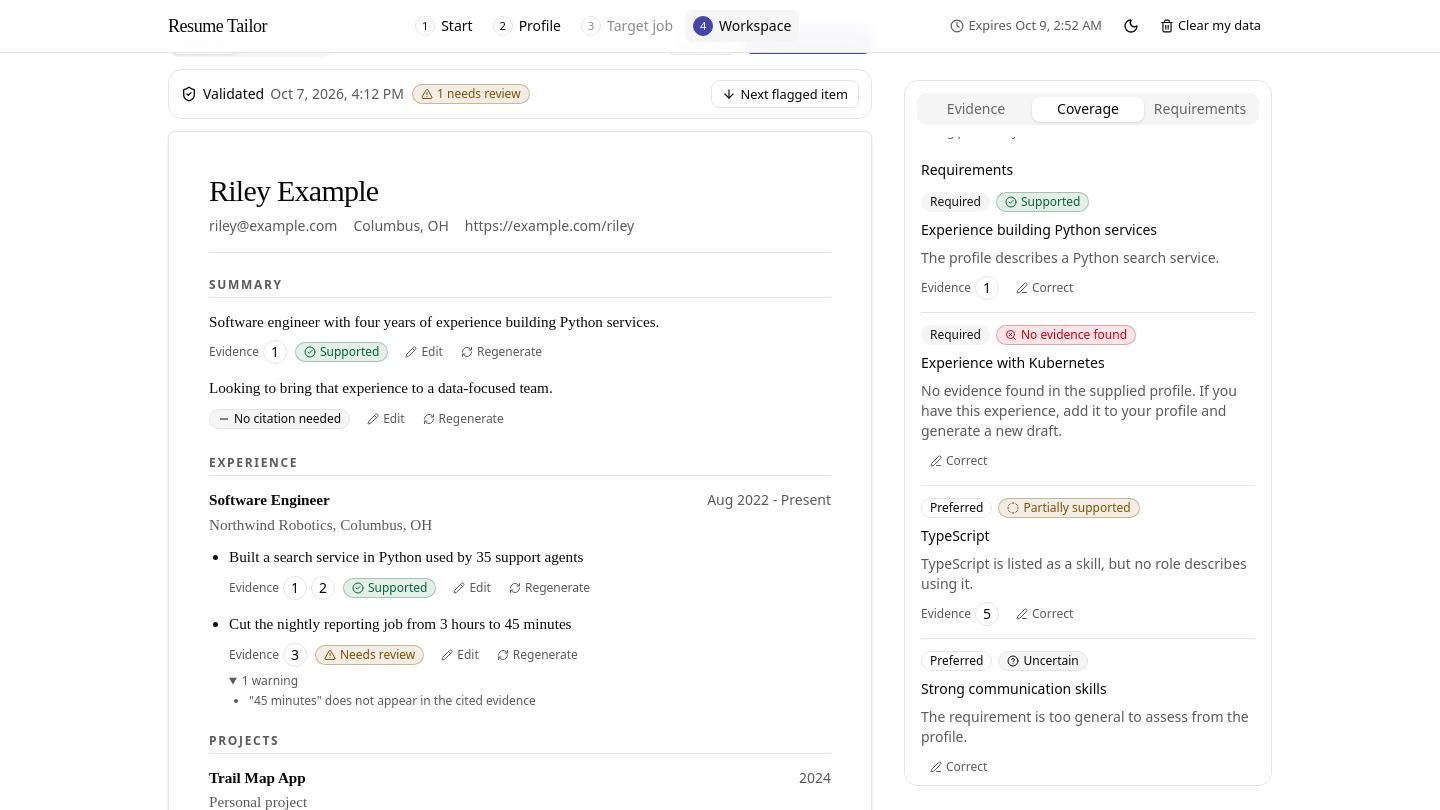
Scenario: Workspace coverage panel (two panes) › saves a correction with the expected revision and marks the requirement as corrected
(page scrolled)
Expected: the tab "Resume" is shown, x1=171 y1=28 x2=238 y2=54
Click the button with aria-label "Correct this status" at (959, 460), box x1=921 y1=448 x2=996 y2=472
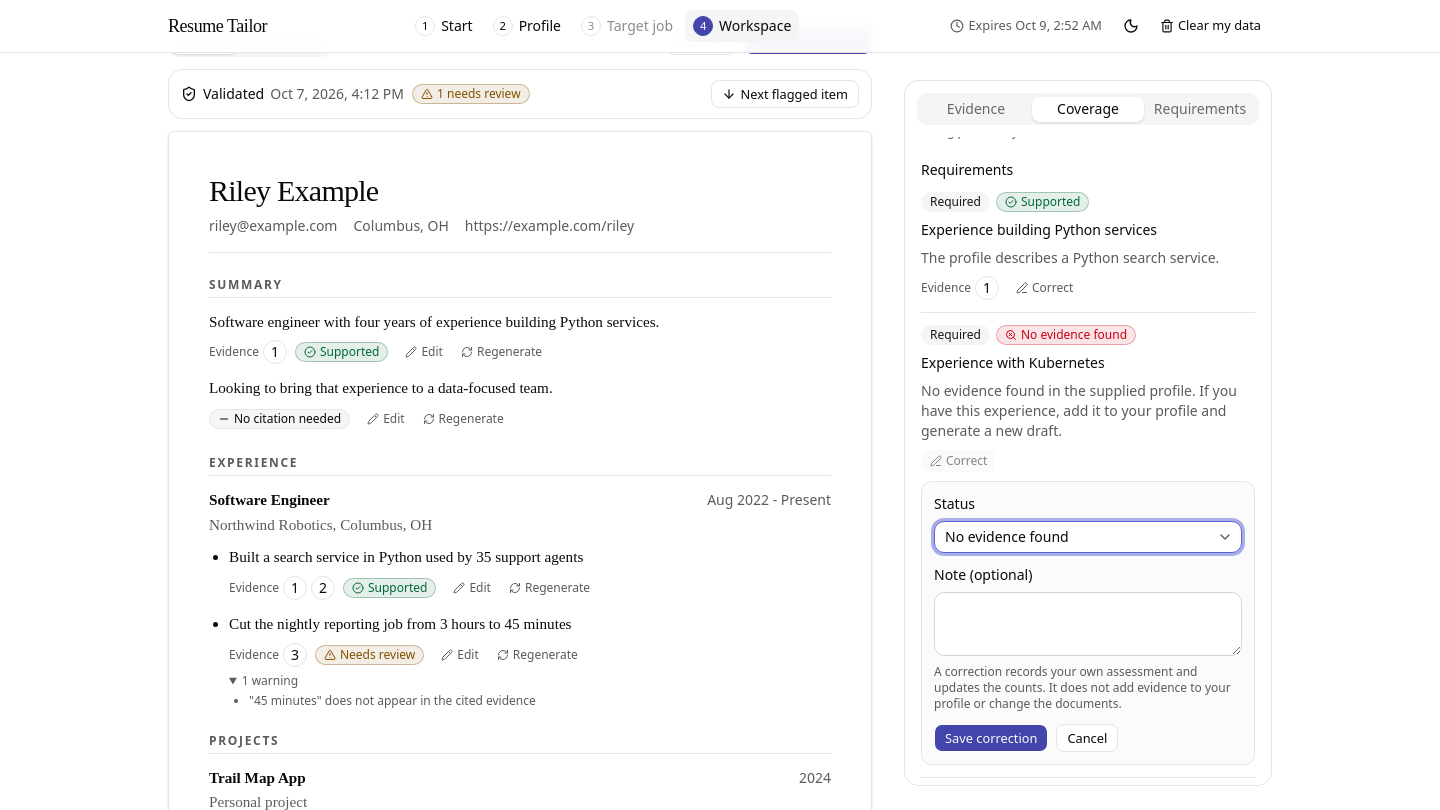
Expected: the dropdown named "Status" reads "No evidence found"
Click the dropdown named "Status" at (1007, 536), box x1=934 y1=521 x2=1242 y2=553
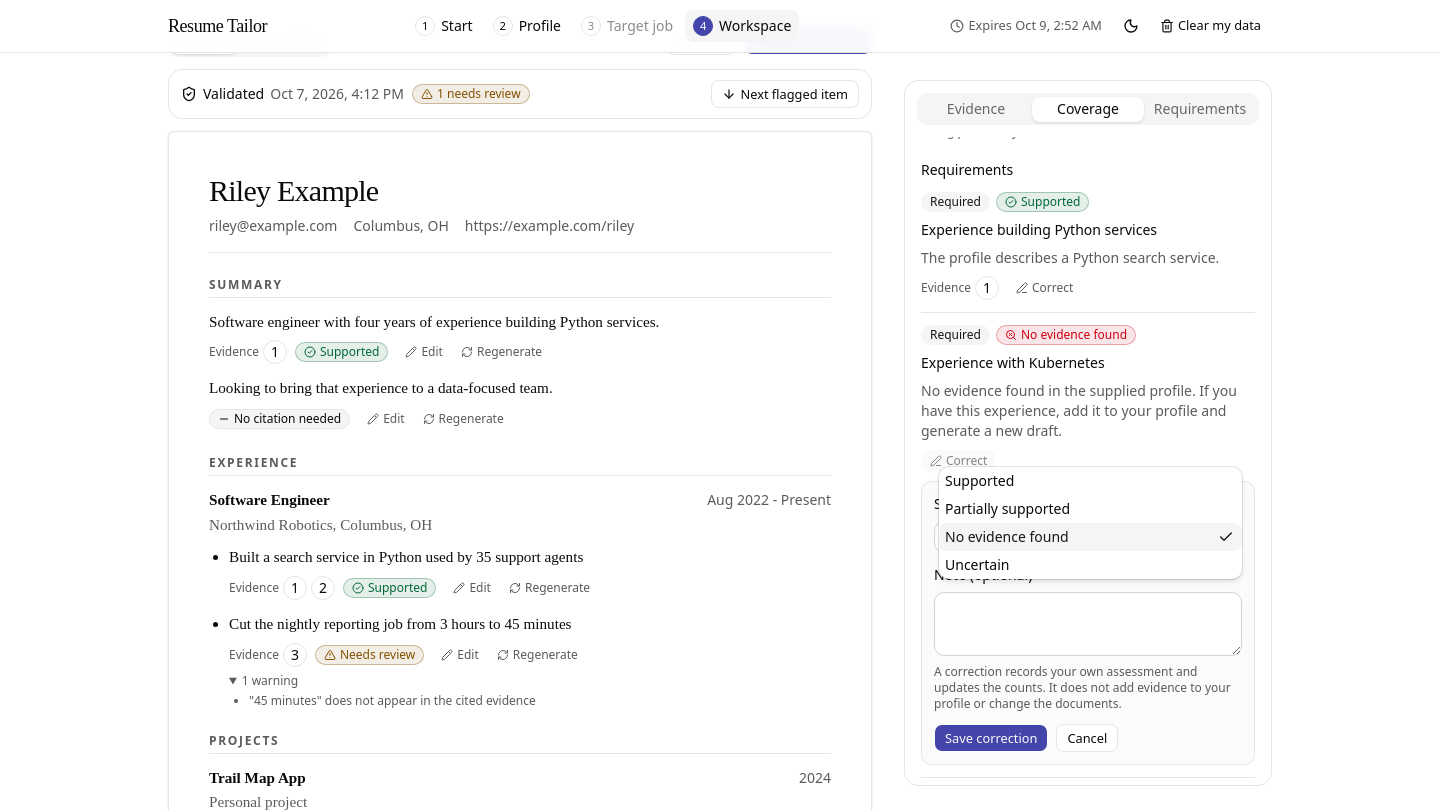
Click the option "Partially supported" at (1008, 508), box x1=945 y1=499 x2=1070 y2=518
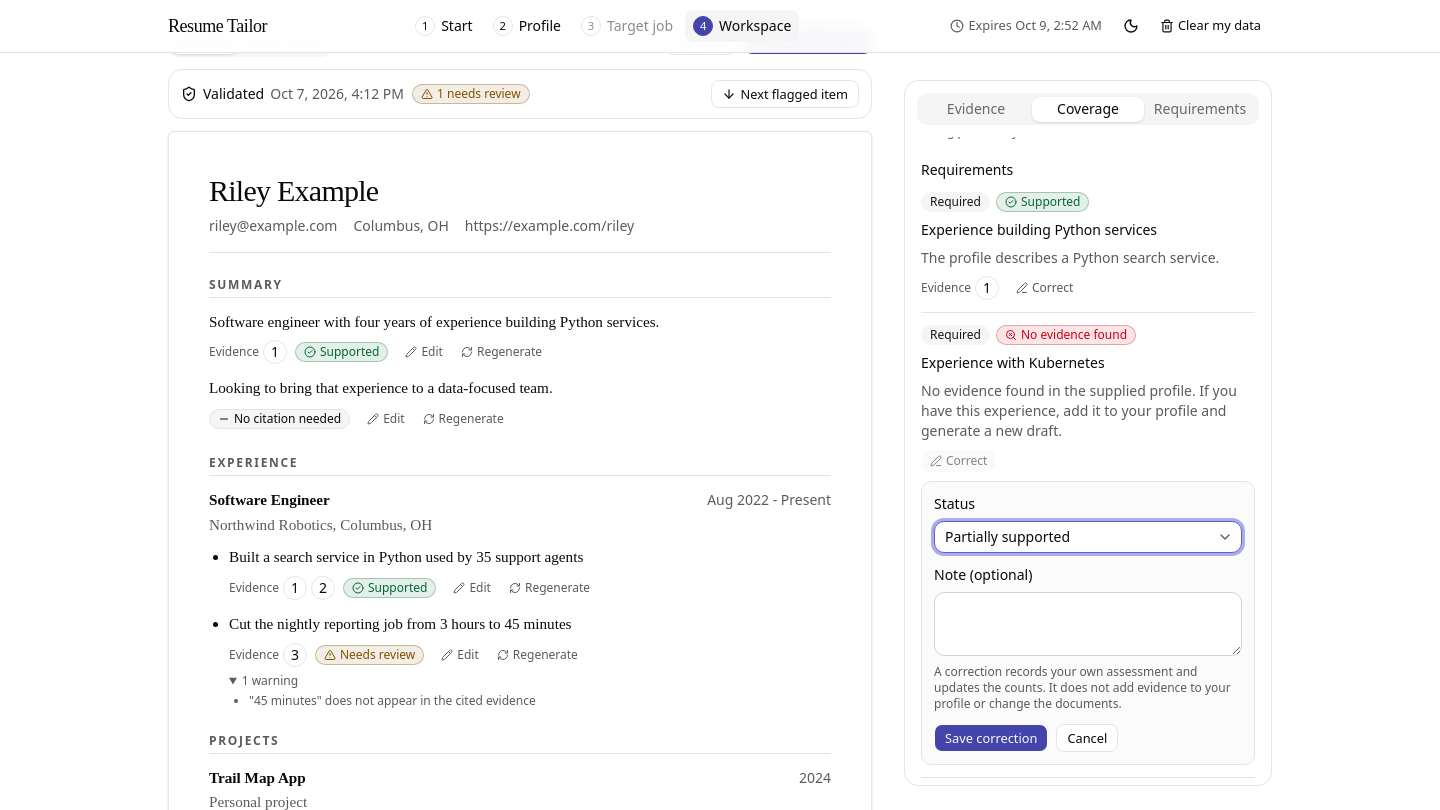
Click the text box labelled "Note (optional)" at (1088, 624), box x1=934 y1=592 x2=1242 y2=656
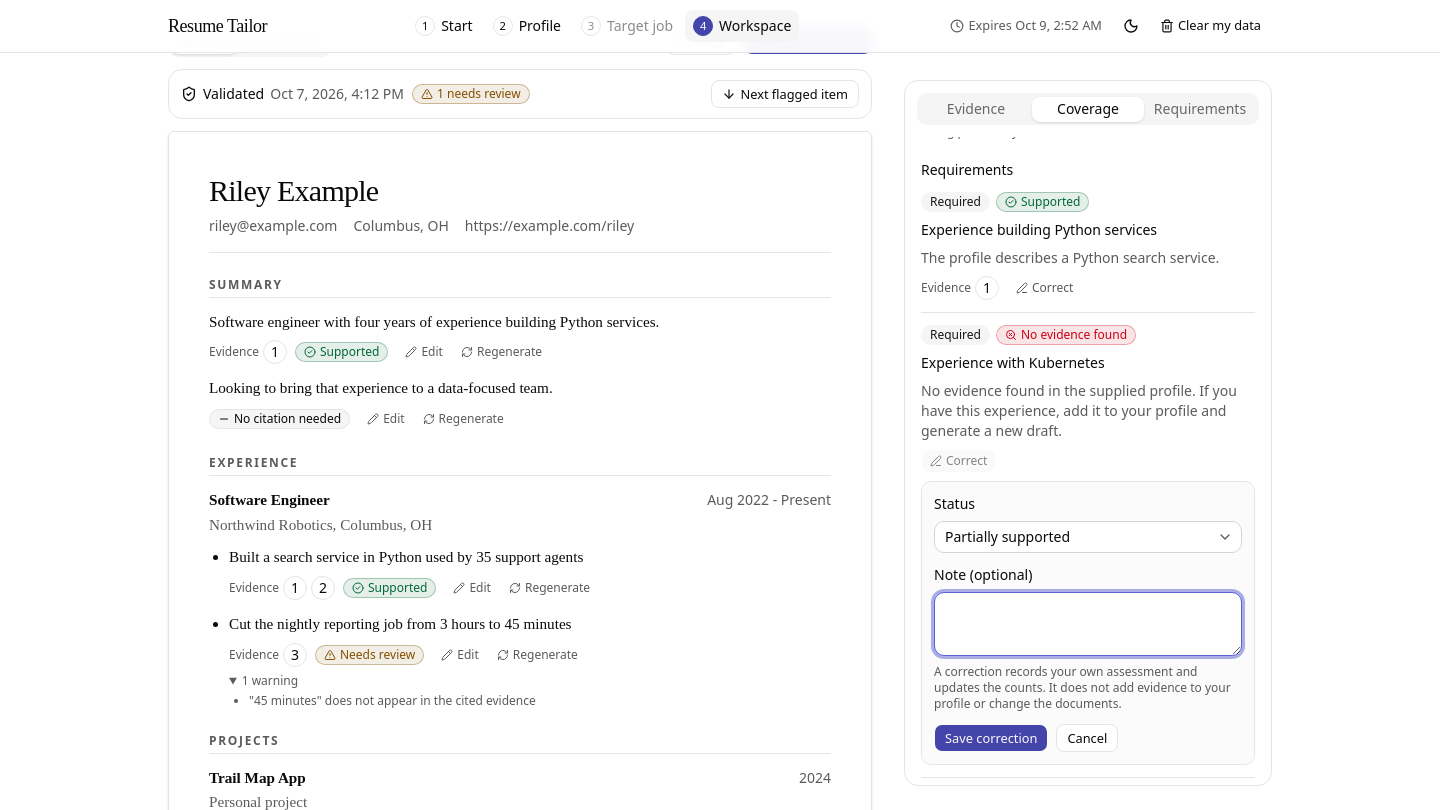
Type keys "Used it in a course project"
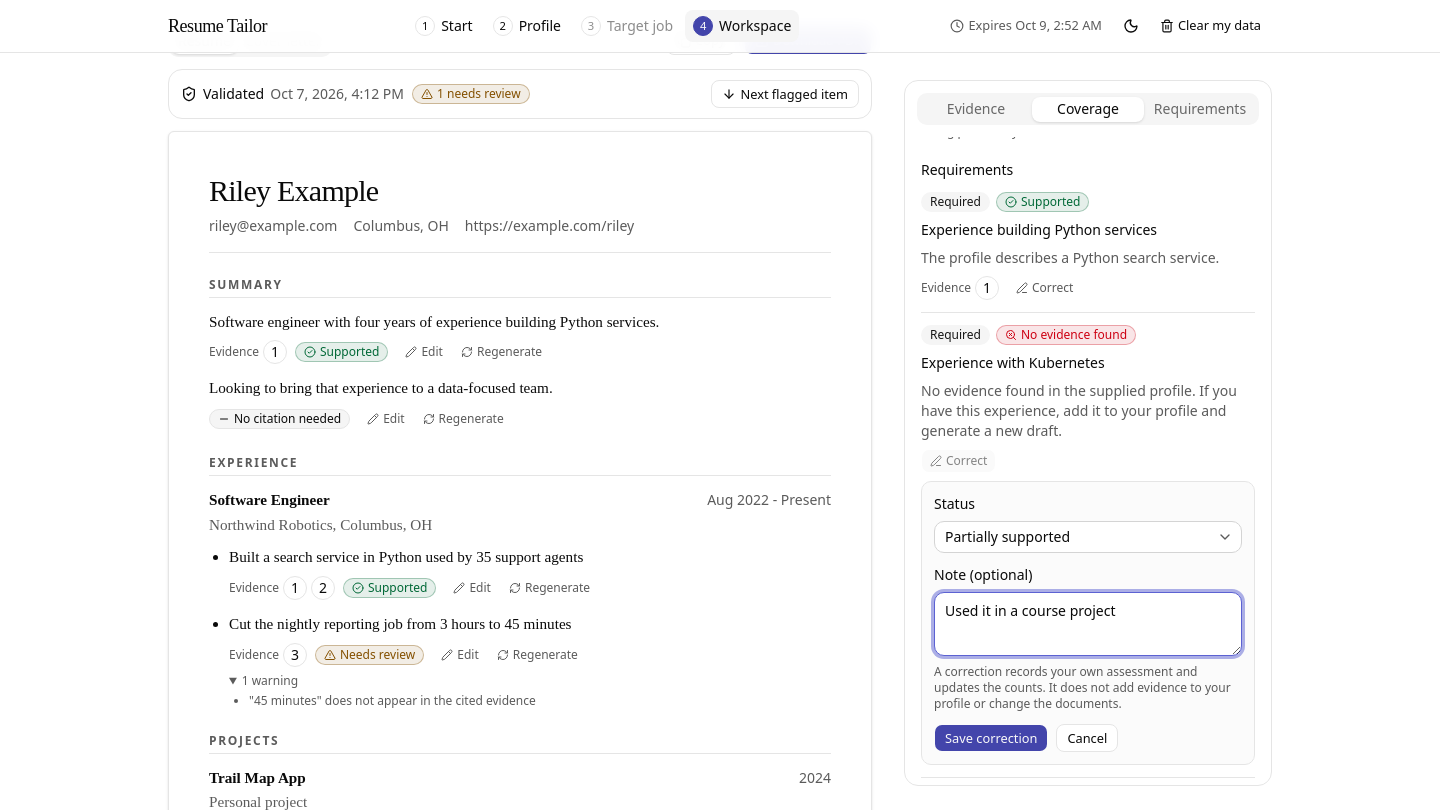
Click the button "Save correction" at (991, 738), box x1=934 y1=724 x2=1048 y2=752
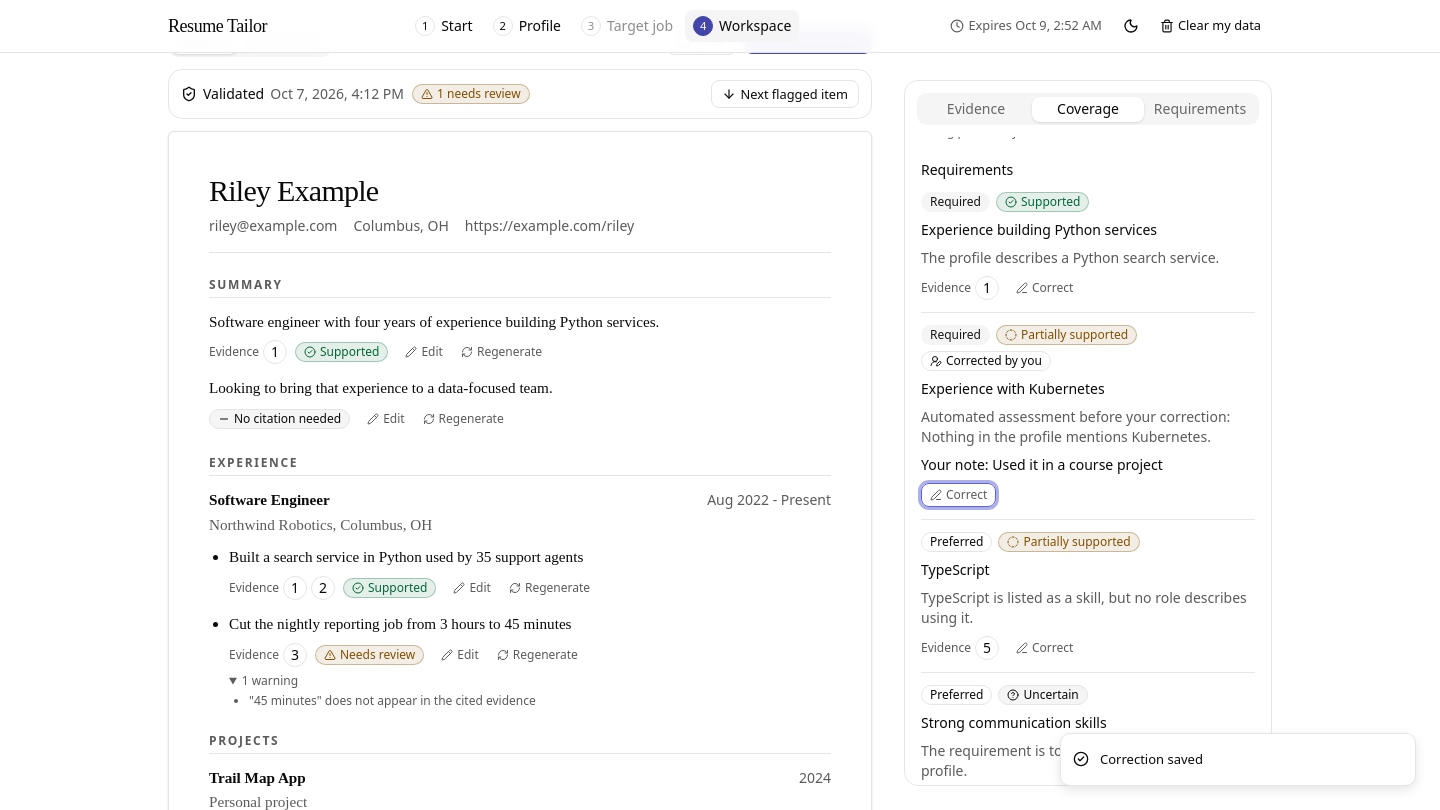
Expected: the text "Corrected by you" is shown, x1=921 y1=350 x2=1051 y2=370
Expected: the 1st text "Partially supported" is shown, x1=996 y1=324 x2=1137 y2=344
Expected: the text "Your note: Used it in a course project" is shown, x1=921 y1=454 x2=1163 y2=474
